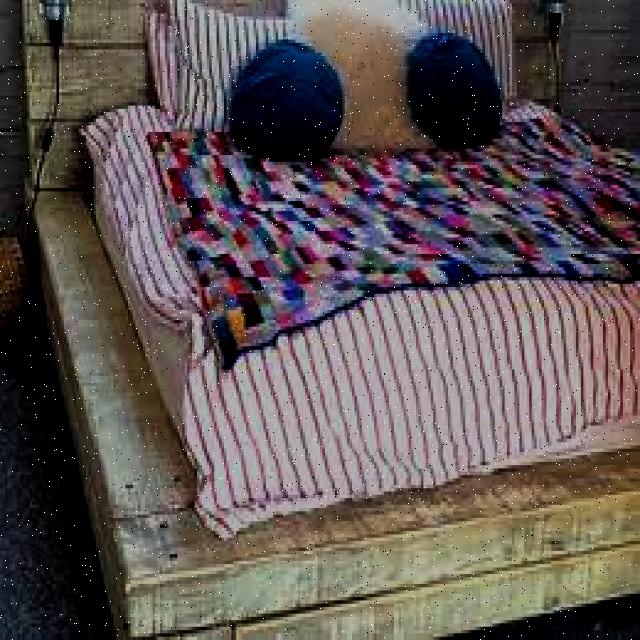bed: (117, 6, 640, 475)
